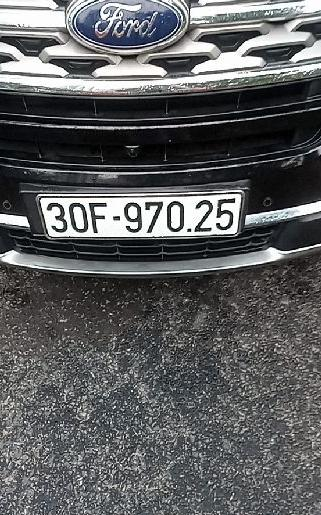Plate-iWeP: (38, 189, 250, 242)
